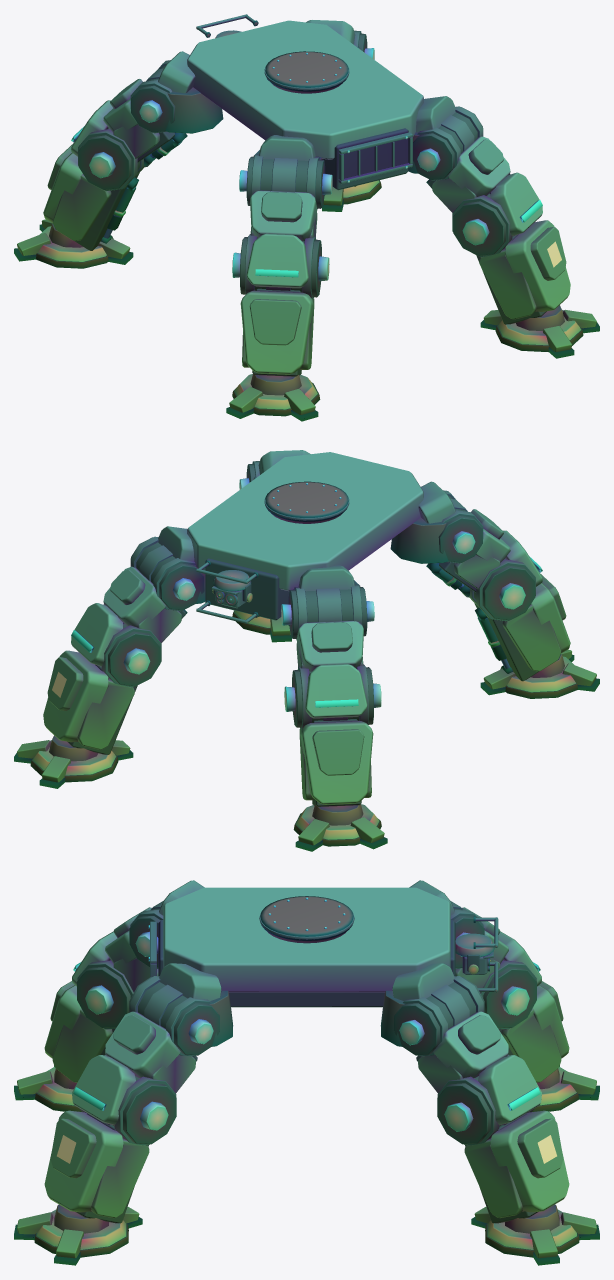
File: legs_quad_hound.glb
3 renders of one model, top to bottom at view 1: azimuth 30°, elevation 25°; view 2: azimuth 150°, elevation 25°; view 3: azimuth 270°, elevation 25°, orthographic. The views are drawn at different scales.
Visible parts, largest first — view 1: Body__armor, Body__dark, Leg_2_Femur__armor, Leg_3_Femur__armor, Leg_3_Knee__armor_sub, Leg_2_Knee__armor, Leg_0__dark, Leg_3_Knee__armor, Leg_2_Knee__armor_sub, Leg_0_Knee__armor_sub, Leg_0_Femur__dark, Body__gunmetal (+31 smaller); view 2: Body__armor, Body__dark, Leg_0_Femur__armor, Leg_1_Femur__armor, Leg_1_Knee__armor_sub, Leg_0_Knee__armor, Leg_2__dark, Leg_1_Knee__armor, Leg_0_Knee__armor_sub, Leg_2_Knee__armor_sub, Leg_2_Femur__dark, Leg_1_Femur__dark (+31 smaller); view 3: Body__armor, Body__dark, Leg_1_Femur__armor, Leg_3_Femur__armor, Leg_1_Knee__armor_sub, Leg_3_Knee__armor_sub, Leg_1_Knee__armor, Leg_3_Knee__armor, Leg_3__dark, Leg_1__dark, Leg_0_Knee__armor_sub, Leg_2_Knee__armor_sub (+39 smaller).
Part boxes in pixels (<box>): Body__armor: <box>187,20,423,159</box>; Body__dark: <box>205,20,408,190</box>; Leg_2_Femur__armor: <box>246,190,317,288</box>; Leg_3_Femur__armor: <box>448,136,542,236</box>; Leg_3_Knee__armor_sub: <box>479,227,566,319</box>; Leg_2_Knee__armor: <box>240,290,313,374</box>; Leg_0__dark: <box>131,66,223,133</box>; Leg_3_Knee__armor: <box>505,220,570,311</box>; Leg_2_Knee__armor_sub: <box>242,298,314,369</box>; Leg_0_Knee__armor_sub: <box>47,143,111,240</box>; Leg_0_Femur__dark: <box>78,128,187,190</box>; Body__gunmetal: <box>196,14,412,184</box>; Body__armor: <box>187,452,423,591</box>; Body__dark: <box>205,481,348,620</box>; Leg_0_Femur__armor: <box>296,620,367,718</box>; Leg_1_Femur__armor: <box>71,566,165,666</box>; Leg_1_Knee__armor_sub: <box>47,657,134,749</box>; Leg_0_Knee__armor: <box>300,721,373,804</box>; Leg_2__dark: <box>390,496,482,563</box>; Leg_1_Knee__armor: <box>43,650,108,742</box>; Leg_0_Knee__armor_sub: <box>299,728,371,800</box>; Leg_2_Knee__armor_sub: <box>502,574,566,671</box>; Leg_2_Femur__dark: <box>426,558,535,620</box>; Leg_1_Femur__dark: <box>108,609,187,686</box>; Body__armor: <box>163,887,450,992</box>; Body__dark: <box>158,896,479,1007</box>; Leg_1_Femur__armor: <box>433,1011,541,1125</box>; Leg_3_Femur__armor: <box>72,1011,180,1125</box>; Leg_1_Knee__armor_sub: <box>464,1118,563,1218</box>; Leg_3_Knee__armor_sub: <box>50,1118,149,1218</box>; Leg_1_Knee__armor: <box>490,1110,569,1212</box>; Leg_3_Knee__armor: <box>44,1110,123,1212</box>; Leg_3__dark: <box>129,977,233,1055</box>; Leg_1__dark: <box>380,977,484,1055</box>; Leg_0_Knee__armor_sub: <box>501,981,563,1082</box>; Leg_2_Knee__armor_sub: <box>50,981,112,1082</box>.
Size of the model in its own units: 2.91 by 1.7 by 3.59.
